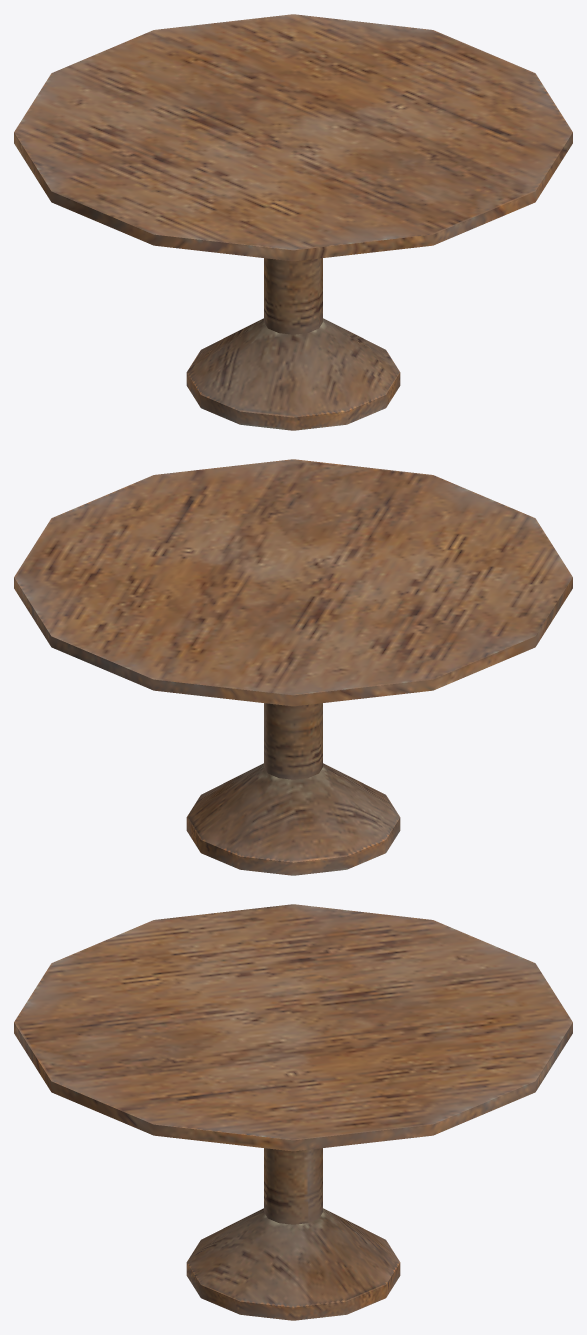
Rendered from psx_wooden_table.glb.
The picture shows the model from 3 angles, top to bottom: view 1: azimuth 30°, elevation 25°; view 2: azimuth 150°, elevation 25°; view 3: azimuth 270°, elevation 25°; orthographic projection.
Visible parts, largest first — view 1: SM_Wooden_Table; view 2: SM_Wooden_Table; view 3: SM_Wooden_Table.
Part boxes in pixels (x1,y1,x2,y2): SM_Wooden_Table: (14, 14, 572, 430); SM_Wooden_Table: (14, 459, 572, 875); SM_Wooden_Table: (14, 904, 572, 1320).
Bounding box in the file's own units: 2 × 1 × 2.
Materials: 1 (1 with a texture image).
